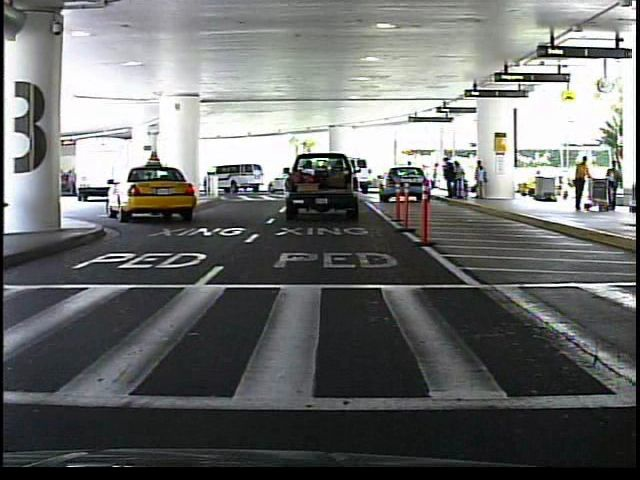person: (568, 153, 593, 215), (602, 157, 625, 214), (404, 158, 419, 193)
